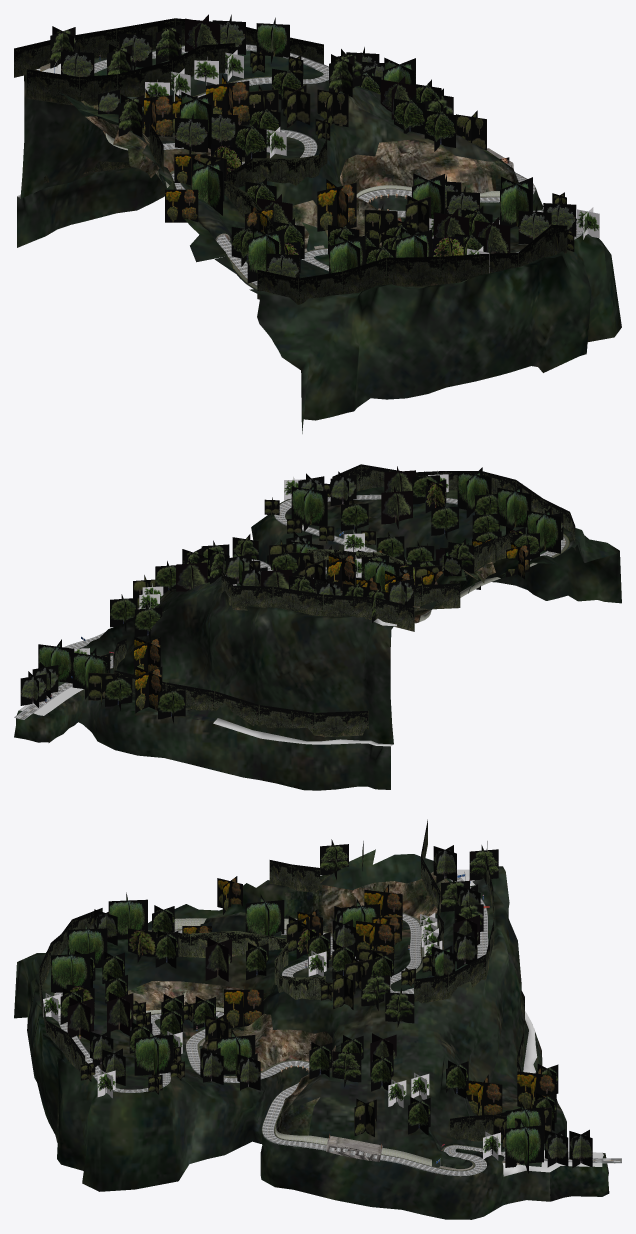
File: map.fbx
3 renders of one model, top to bottom at view 1: azimuth 30°, elevation 25°; view 2: azimuth 150°, elevation 25°; view 3: azimuth 270°, elevation 25°, orthographic. The views are drawn at different scales.
Parts seen in each view (by area): view 1: shan, tree6__spec_, tree22__spec_, tree21__spec_, shan1, tree23__spec_, tree5_spec_, tree4__spec_, tree20__spec_, tree18__spec_, tree25__spec_, road1 (+2 smaller); view 2: shan, tree6__spec_, tree21__spec_, tree22__spec_, tree23__spec_, tree5_spec_, tree4__spec_, tree18__spec_, tree20__spec_, tree25__spec_, road1, xiaolu (+2 smaller); view 3: shan, tree21__spec_, tree22__spec_, tree6__spec_, shan1, tree23__spec_, tree5_spec_, tree4__spec_, road1, tree20__spec_, tree18__spec_, tree25__spec_ (+5 smaller).
Boxes of the visible parts, left/top/right/bottom form: shan: left=17, top=45, right=621, bottom=433; tree6__spec_: left=14, top=18, right=567, bottom=304; tree22__spec_: left=180, top=23, right=532, bottom=283; tree21__spec_: left=231, top=65, right=492, bottom=266; shan1: left=81, top=100, right=518, bottom=248; tree23__spec_: left=61, top=14, right=576, bottom=278; tree5_spec_: left=142, top=74, right=356, bottom=233; tree4__spec_: left=196, top=50, right=574, bottom=251; tree20__spec_: left=50, top=23, right=452, bottom=137; tree18__spec_: left=185, top=14, right=510, bottom=253; tree25__spec_: left=145, top=50, right=599, bottom=272; road1: left=94, top=45, right=582, bottom=285; shan: left=14, top=487, right=621, bottom=790; tree6__spec_: left=113, top=464, right=575, bottom=737; tree21__spec_: left=105, top=471, right=539, bottom=723; tree22__spec_: left=38, top=467, right=560, bottom=699; tree23__spec_: left=20, top=471, right=563, bottom=707; tree5_spec_: left=134, top=537, right=529, bottom=713; tree4__spec_: left=88, top=482, right=448, bottom=706; tree18__spec_: left=176, top=466, right=444, bottom=591; tree20__spec_: left=182, top=534, right=474, bottom=622; tree25__spec_: left=74, top=470, right=448, bottom=654; road1: left=15, top=495, right=565, bottom=719; xiaolu: left=213, top=718, right=393, bottom=746; shan: left=14, top=849, right=609, bottom=1219; tree21__spec_: left=60, top=905, right=558, bottom=1135; tree22__spec_: left=51, top=892, right=544, bottom=1173; tree6__spec_: left=39, top=819, right=524, bottom=1141; shan1: left=128, top=871, right=448, bottom=1135; tree23__spec_: left=90, top=841, right=592, bottom=1168; tree5_spec_: left=182, top=876, right=555, bottom=1115; tree4__spec_: left=80, top=916, right=551, bottom=1150; road1: left=54, top=874, right=621, bottom=1175; tree20__spec_: left=320, top=839, right=498, bottom=1086; tree18__spec_: left=67, top=913, right=479, bottom=1076; tree25__spec_: left=43, top=913, right=500, bottom=1160.
Bounding box in the file's own units: 41174 × 19604 × 52982.
